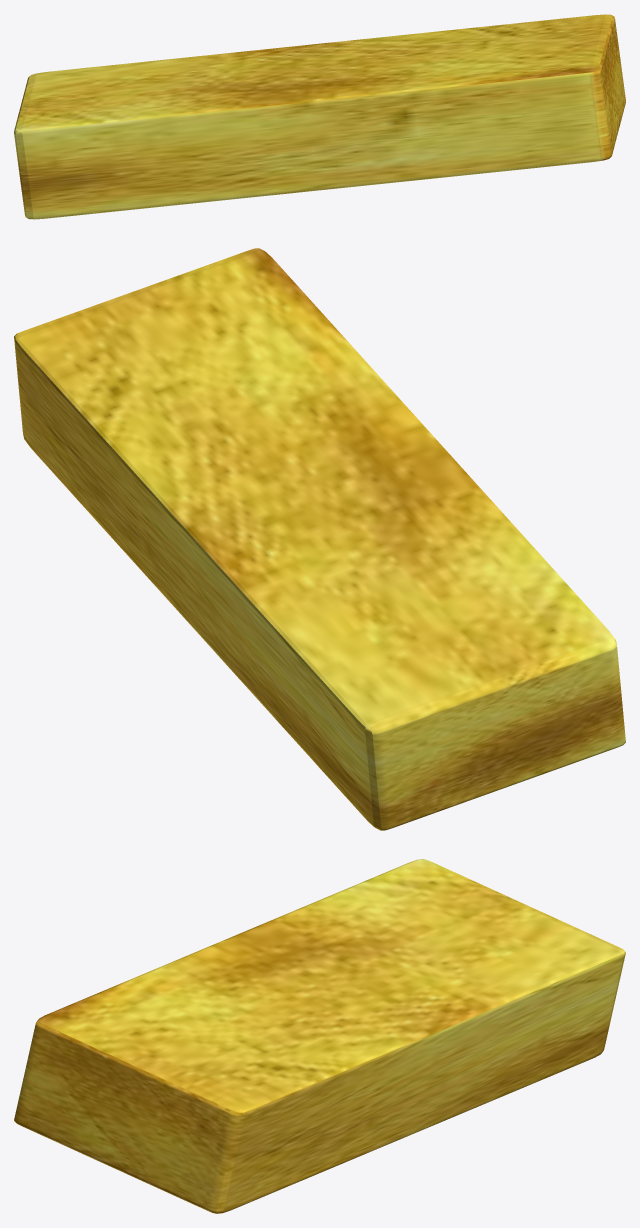
File: goldmol.glb
3 views of the same model, one above another, from view 1: azimuth 30°, elevation 25°; view 2: azimuth 150°, elevation 25°; view 3: azimuth 270°, elevation 25° (orthographic). The views are drawn at different scales.
Parts seen in each view (by area): view 1: GoldBar_5; view 2: GoldBar_5; view 3: GoldBar_5.
Part boxes in pixels (box(x1,y1,x2,y2)): GoldBar_5: box(14, 14, 625, 219); GoldBar_5: box(14, 248, 625, 830); GoldBar_5: box(14, 859, 625, 1213).
Size of the model in its own units: 12.05 by 4.01 by 10.
Materials: 7 (1 with a texture image).
